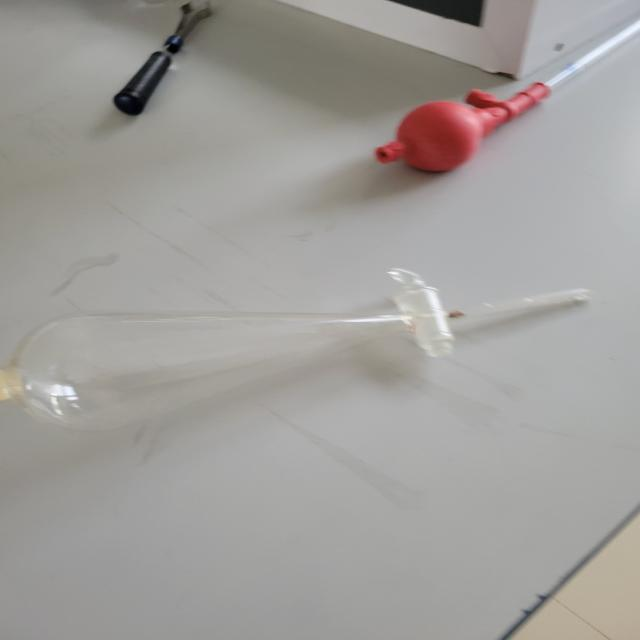Separating_Funnel: (7, 265, 626, 432)
Volumetric_Pipet: (335, 24, 612, 191)
